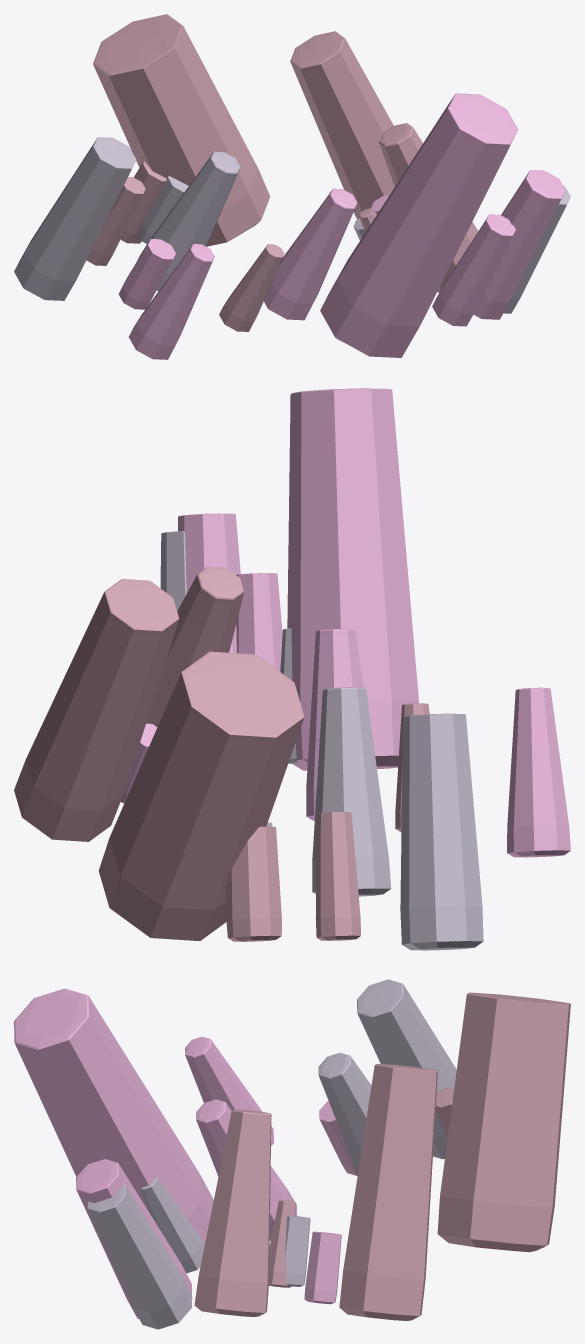
File: Obj_Mineral_3.fbx
3 renders of one model, top to bottom at view 1: azimuth 30°, elevation 25°; view 2: azimuth 150°, elevation 25°; view 3: azimuth 270°, elevation 25°, orthographic. The views are drawn at different scales.
Visible parts, largest first — view 1: Cluster_3; view 2: Cluster_3; view 3: Cluster_3.
Part boxes in pixels (box(x1,y1,x2,y2)): Cluster_3: box(14, 14, 570, 359); Cluster_3: box(14, 388, 570, 950); Cluster_3: box(14, 979, 570, 1329).
Bounding box in the file's own units: 722 × 467 × 793.
